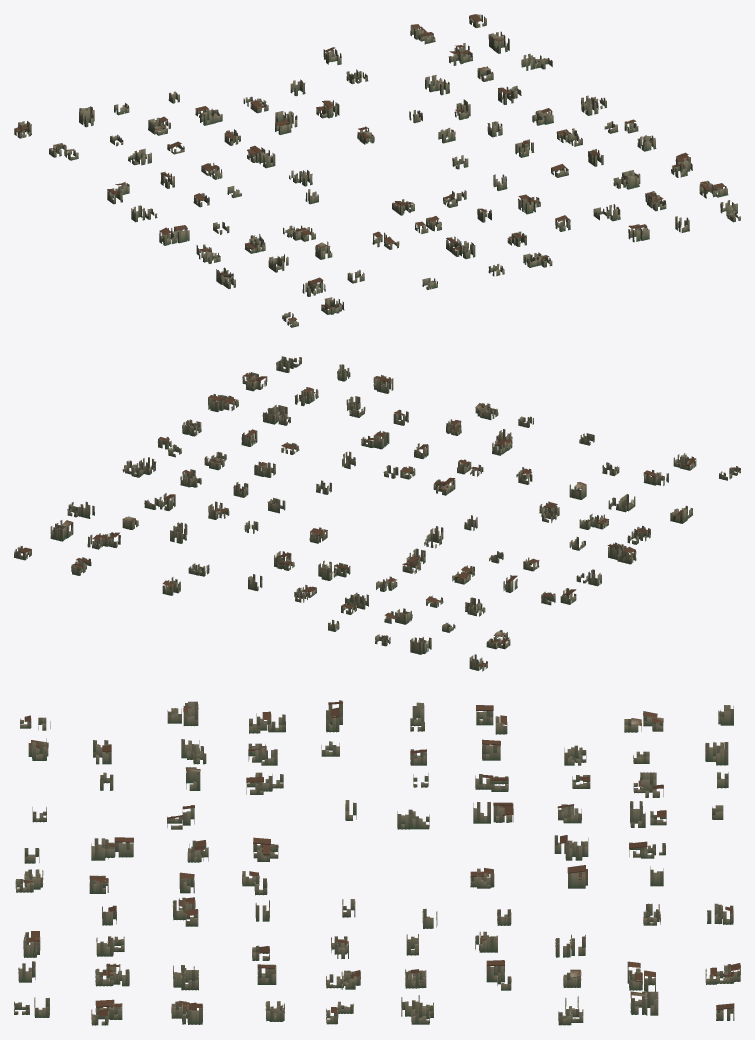
The model's file is sw_buildings_lod1.glb.
3 views of the same model, one above another, from view 1: azimuth 30°, elevation 25°; view 2: azimuth 150°, elevation 25°; view 3: azimuth 270°, elevation 25° (orthographic). The views are drawn at different scales.
Visible parts, largest first — view 1: geometry_0; view 2: geometry_0; view 3: geometry_0.
Part boxes in pixels (x1,y1,x2,y2): geometry_0: (14,14,740,327); geometry_0: (14,356,740,671); geometry_0: (14,700,740,1025).
Size of the model in its own units: 479 by 12.69 by 476.
